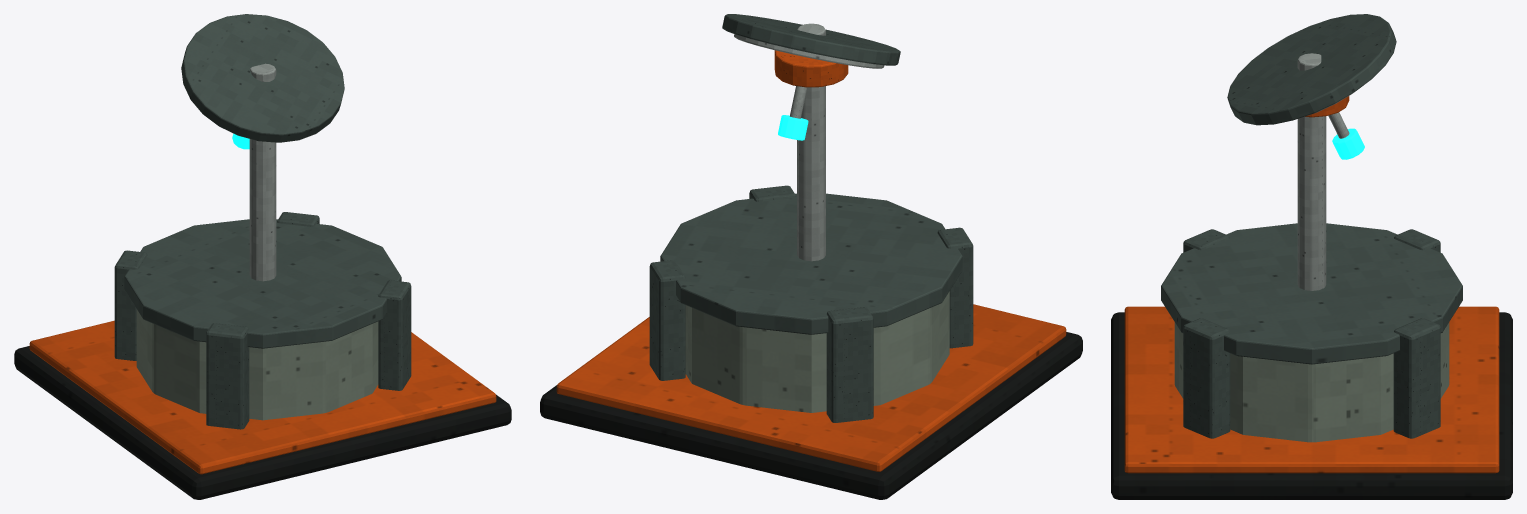
Rendered from ff_rel_01_v1.glb.
3 views of the same model, side by side, from view 1: azimuth 30°, elevation 25°; view 2: azimuth 150°, elevation 25°; view 3: azimuth 270°, elevation 25° (orthographic). The views are drawn at different scales.
Parts seen in each view (by area): view 1: relay_roof, foundation_trim, dish_back, relay_bunker, foundation, mast_brace_2, antenna_column, mast_brace_3, mast_brace_1; view 2: relay_roof, foundation_trim, relay_bunker, foundation, mast_brace_1, antenna_column, dish_back, mast_brace_0, mast_brace_2, antenna_collar, dish_face, powered_dish_receiver (+1 smaller); view 3: relay_roof, foundation_trim, foundation, relay_bunker, dish_back, antenna_column, mast_brace_0, mast_brace_3, powered_dish_receiver, mast_brace_1, mast_brace_2.
Part boxes in pixels (x1,y1,x2,y2): relay_roof: (124, 219, 401, 348); foundation_trim: (29, 320, 496, 474); dish_back: (181, 14, 344, 142); relay_bunker: (136, 309, 378, 420); foundation: (14, 346, 511, 499); mast_brace_2: (206, 323, 249, 429); antenna_column: (249, 63, 276, 281); mast_brace_3: (378, 280, 411, 390); mast_brace_1: (114, 250, 147, 360); relay_roof: (660, 193, 962, 334); foundation_trim: (556, 304, 1066, 471); relay_bunker: (685, 291, 949, 412); foundation: (540, 332, 1082, 499); mast_brace_1: (826, 307, 873, 422); antenna_column: (797, 23, 825, 261); dish_back: (722, 14, 900, 65); mast_brace_0: (649, 260, 685, 380); mast_brace_2: (937, 227, 973, 348); antenna_collar: (774, 50, 848, 87); dish_face: (734, 34, 884, 68); powered_dish_receiver: (778, 115, 808, 140); relay_roof: (1161, 223, 1462, 364); foundation_trim: (1124, 306, 1499, 473); foundation: (1111, 312, 1512, 499); relay_bunker: (1174, 322, 1449, 442); dish_back: (1227, 14, 1396, 125); antenna_column: (1297, 53, 1326, 290); mast_brace_0: (1393, 318, 1440, 438); mast_brace_3: (1183, 318, 1230, 438); powered_dish_receiver: (1332, 128, 1364, 159); mast_brace_1: (1394, 229, 1440, 252); mast_brace_2: (1183, 229, 1229, 252).
Size of the model in its own units: 6.7 by 7.12 by 6.7.
Materials: 6 (5 with a texture image).
